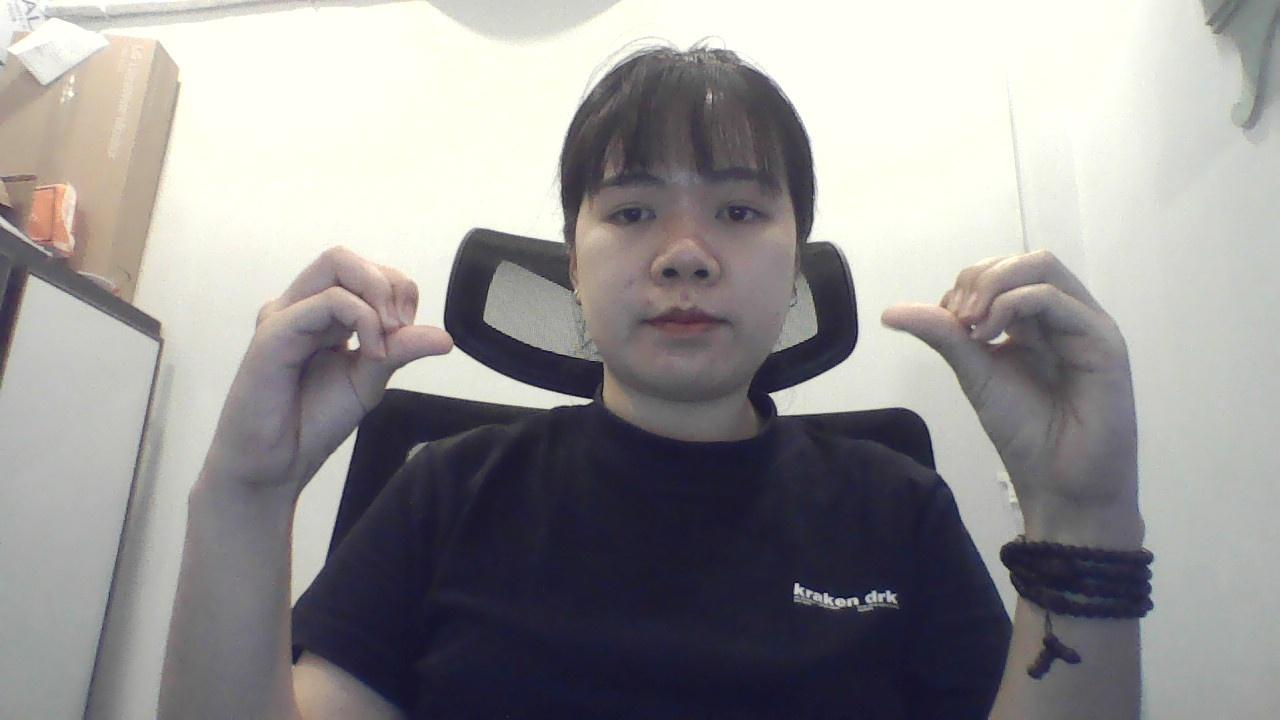S: (872, 224, 1150, 502), (206, 234, 464, 483)
